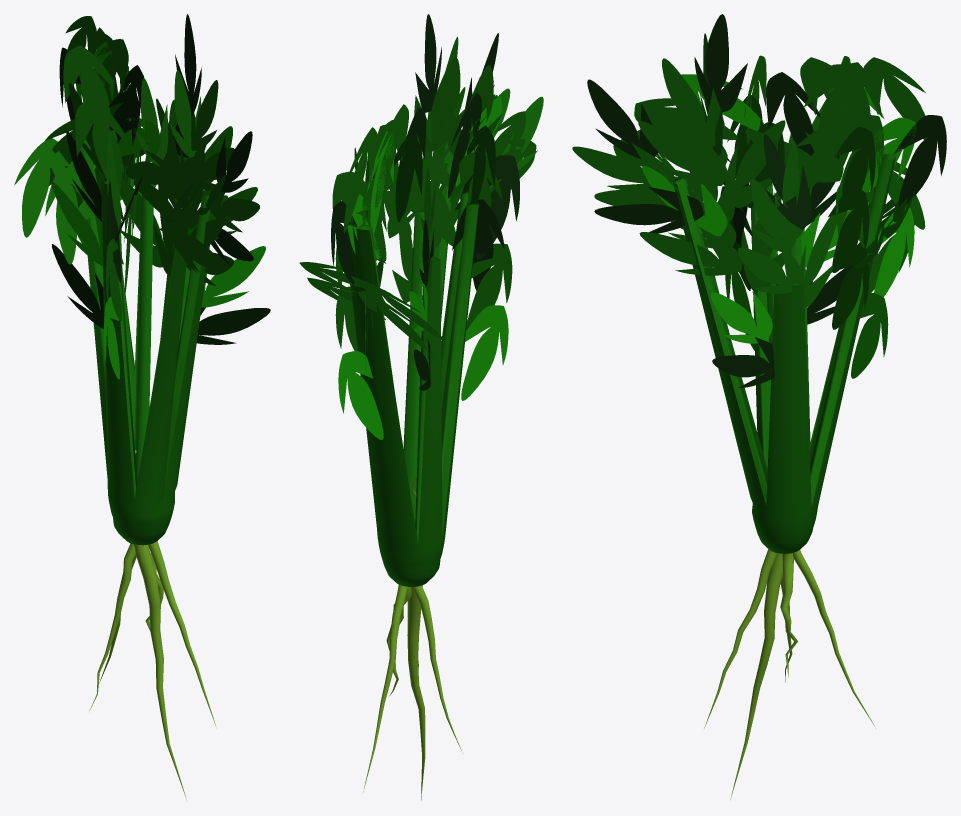
File: 紅蘿蔔生長2.FBX
3 renders of one model, left to right at view 1: azimuth 30°, elevation 25°; view 2: azimuth 150°, elevation 25°; view 3: azimuth 270°, elevation 25°, orthographic.
Parts seen in each view (by area): view 1: Cone002, Line053, Line014, Cone008, Line010, Line025, Line024, Line039, Line038, Line055, Line061, Line056 (+29 smaller); view 2: Cone002, Line043, Line033, Line042, Line005, Line015, Cone008, Line066, Line041, Line010, Line044, Line001 (+28 smaller); view 3: Cone002, Line002, Line045, Line017, Line001, Line004, Line057, Line026, Line003, Line056, Line058, Line044 (+36 smaller).
Boxes of the visible parts, left/top/right/bottom form: Cone002: left=75, top=102, right=210, bottom=545; Line053: left=14, top=138, right=66, bottom=237; Line014: left=75, top=99, right=124, bottom=192; Cone008: left=134, top=544, right=186, bottom=798; Line010: left=63, top=45, right=118, bottom=127; Line025: left=183, top=246, right=265, bottom=307; Line024: left=196, top=307, right=270, bottom=344; Line039: left=52, top=244, right=103, bottom=329; Line038: left=51, top=181, right=102, bottom=266; Line055: left=45, top=165, right=81, bottom=264; Line061: left=125, top=150, right=177, bottom=202; Line056: left=216, top=131, right=252, bottom=192; Cone002: left=346, top=163, right=478, bottom=586; Line043: left=461, top=305, right=508, bottom=400; Line033: left=338, top=351, right=383, bottom=439; Line042: left=466, top=243, right=512, bottom=330; Line005: left=414, top=57, right=467, bottom=152; Line015: left=412, top=158, right=462, bottom=247; Cone008: left=407, top=585, right=425, bottom=800; Line066: left=476, top=155, right=519, bottom=259; Line041: left=452, top=199, right=504, bottom=290; Line010: left=394, top=134, right=422, bottom=221; Line044: left=343, top=127, right=377, bottom=232; Line001: left=415, top=14, right=441, bottom=112; Cone002: left=672, top=154, right=896, bottom=553; Line002: left=638, top=120, right=727, bottom=185; Line045: left=893, top=115, right=946, bottom=206; Line017: left=639, top=227, right=742, bottom=275; Line001: left=694, top=14, right=747, bottom=112; Line004: left=662, top=58, right=725, bottom=146; Line057: left=594, top=186, right=703, bottom=233; Line026: left=766, top=72, right=820, bottom=155; Line003: left=724, top=120, right=785, bottom=207; Line056: left=587, top=79, right=658, bottom=158; Line058: left=572, top=143, right=674, bottom=192; Line044: left=863, top=57, right=928, bottom=139.
Size of the model in its own units: 25.82 by 116 by 50.12.
